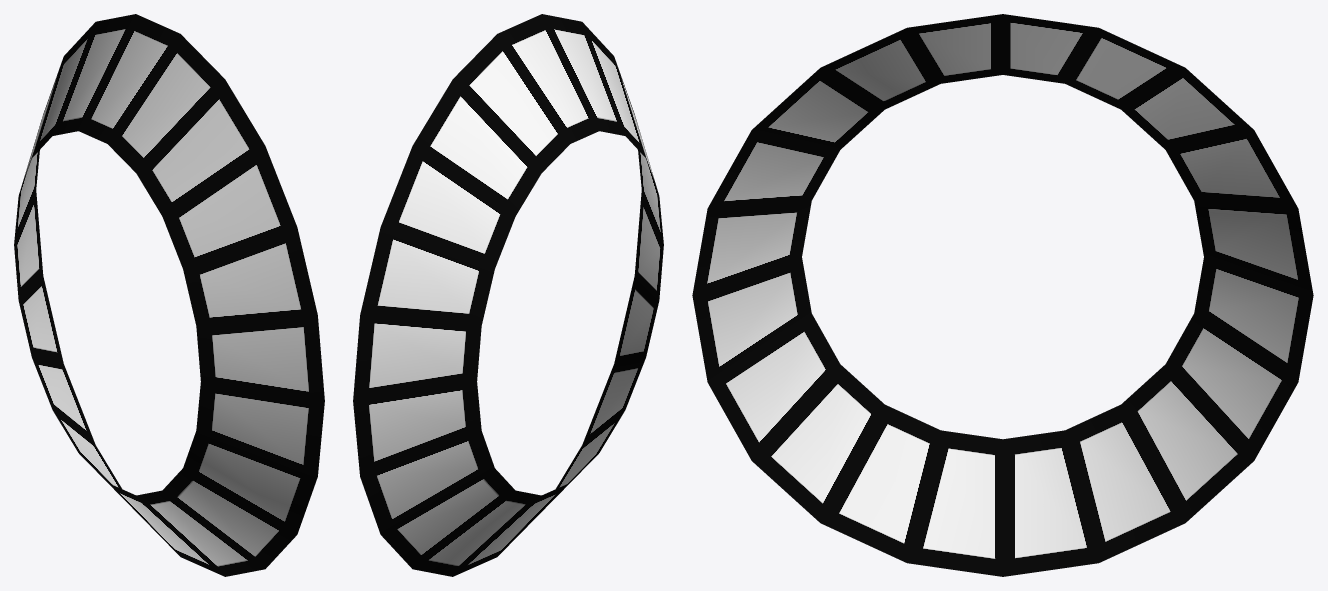
The model's file is sm_ring2.fbx.
3 views of the same model, side by side, from view 1: azimuth 30°, elevation 25°; view 2: azimuth 150°, elevation 25°; view 3: azimuth 270°, elevation 25° (orthographic). The views are drawn at different scales.
Visible parts, largest first — view 1: pCylinder27; view 2: pCylinder27; view 3: pCylinder27.
Part boxes in pixels (x1,y1,x2,y2): pCylinder27: (14,14,324,576); pCylinder27: (353,14,663,576); pCylinder27: (692,14,1313,576).
Size of the model in its own units: 0.155 by 1.06 by 1.06.
